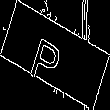P_NE: (36, 24, 74, 86)
